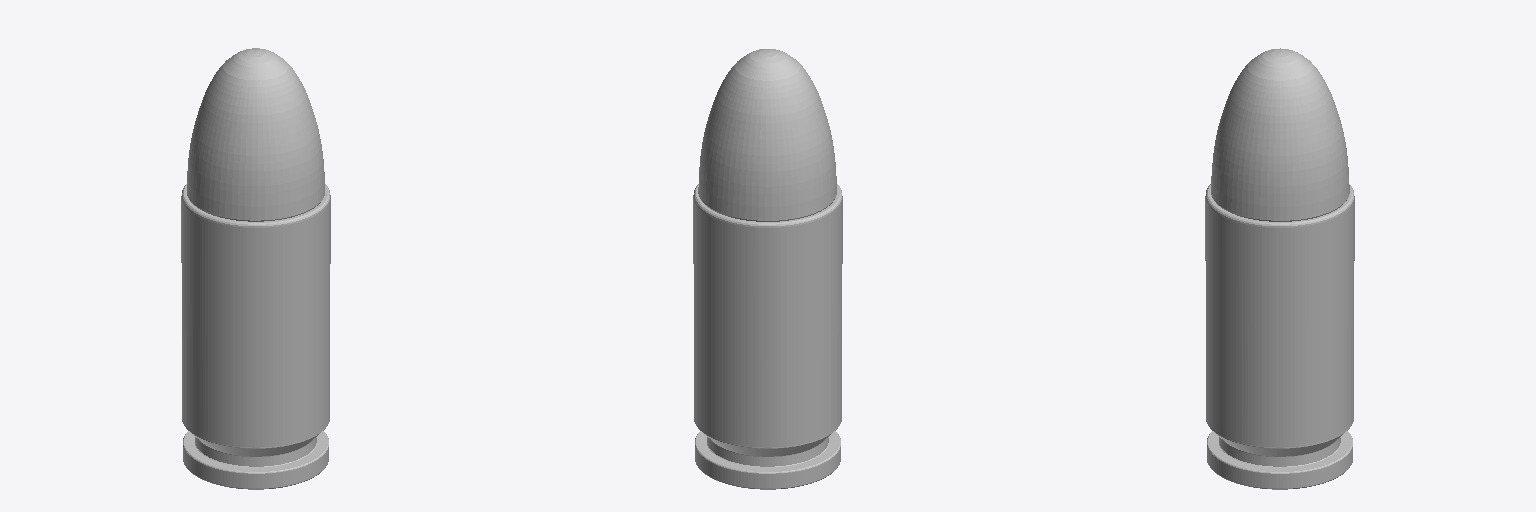
File: bullet_normal.obj
The picture shows the model from 3 angles: view 1: azimuth 30°, elevation 25°; view 2: azimuth 150°, elevation 25°; view 3: azimuth 270°, elevation 25°; orthographic projection.
Parts seen in each view (by area): view 1: Bullet; view 2: Bullet; view 3: Bullet.
Part boxes in pixels (bbox=[...]): Bullet: bbox=[181, 48, 330, 489]; Bullet: bbox=[693, 49, 842, 489]; Bullet: bbox=[1205, 48, 1354, 489].
Size of the model in its own units: 54.85 by 165 by 54.85.